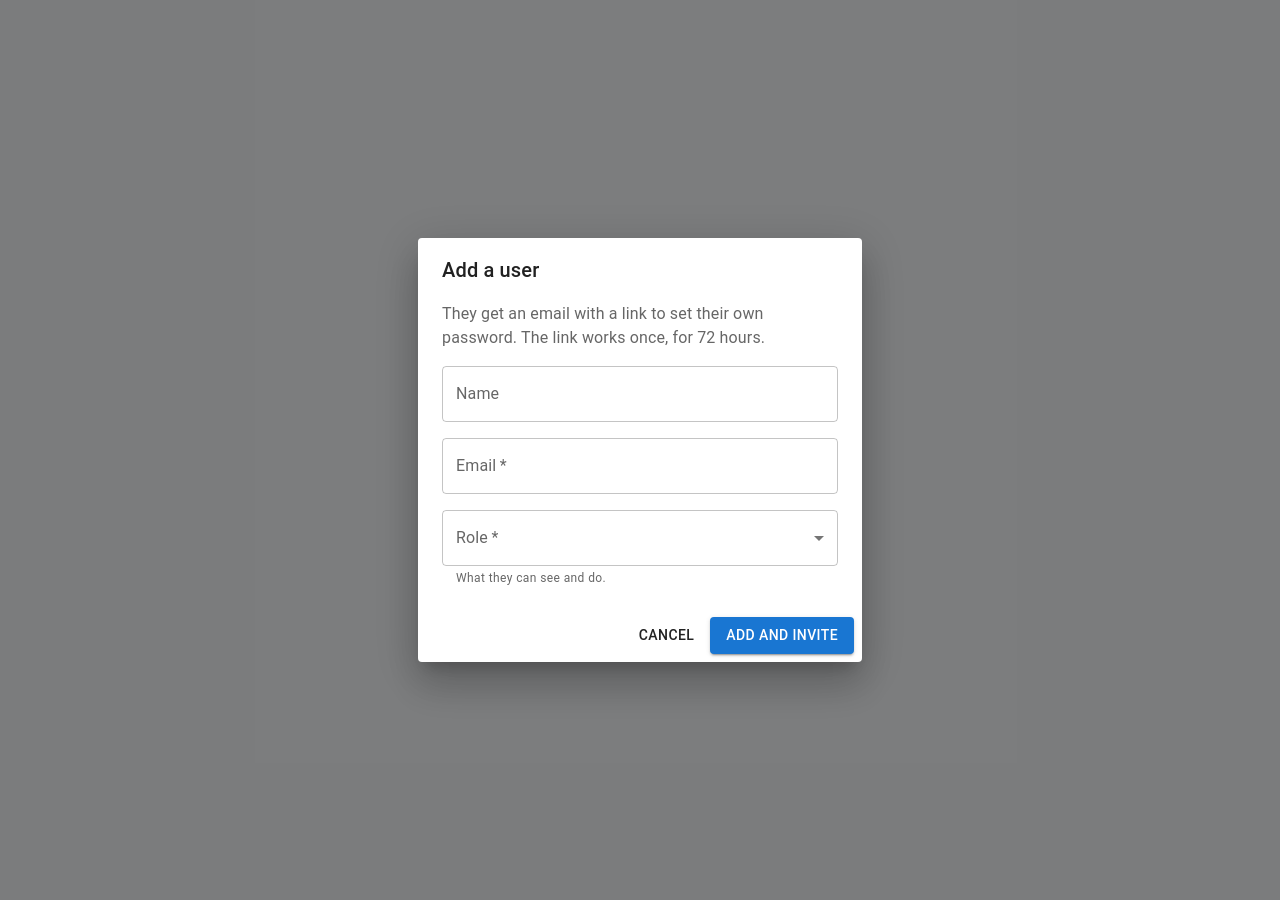
Test: AddUserDialog › shows why the server refused
Step 1. Type "asha@acme.in" into the field labelled "Email *" → (640, 466), box top-left (442, 438), bottom-right (838, 494)
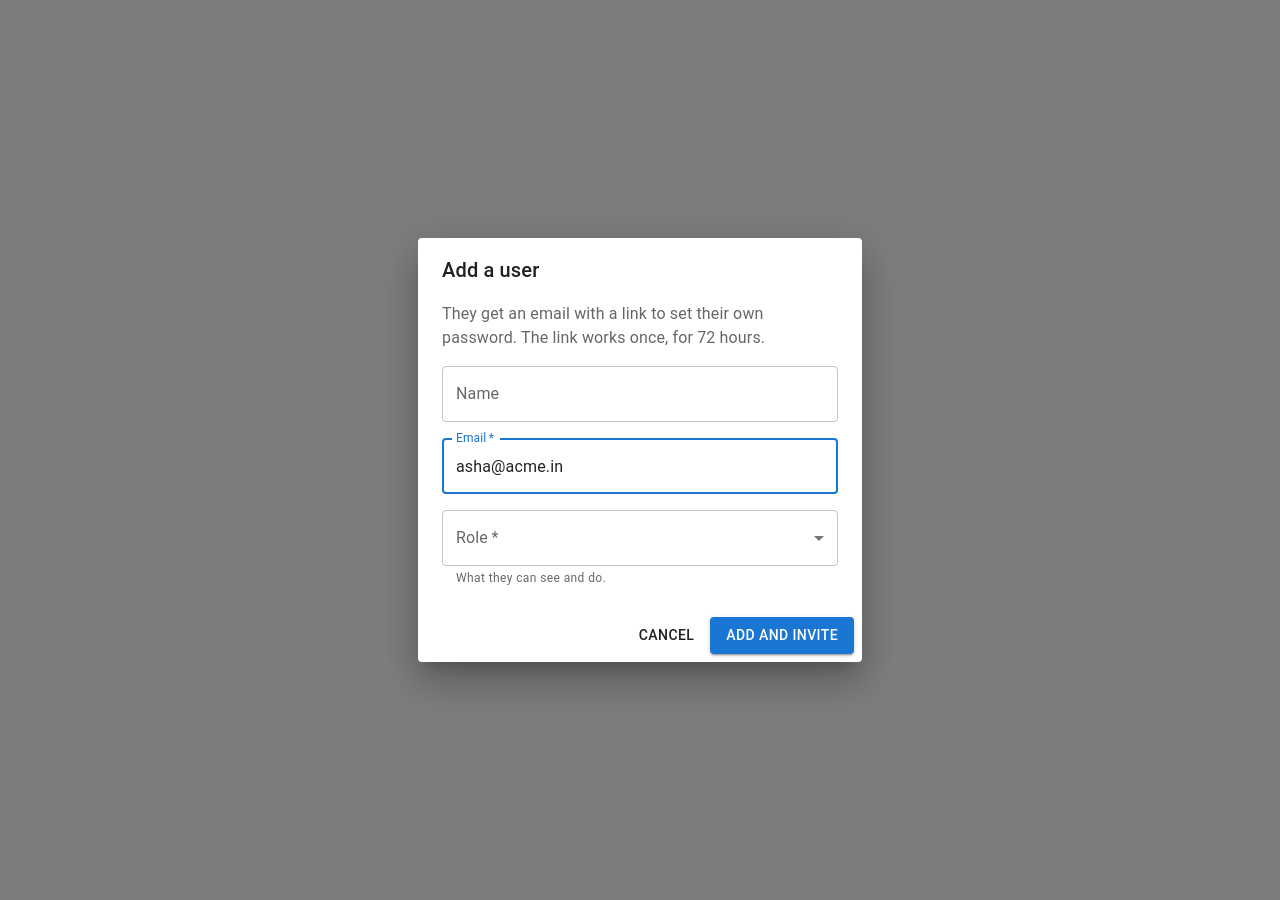
Step 2. Press the mouse on the dropdown → (640, 538), box top-left (442, 510), bottom-right (838, 566)
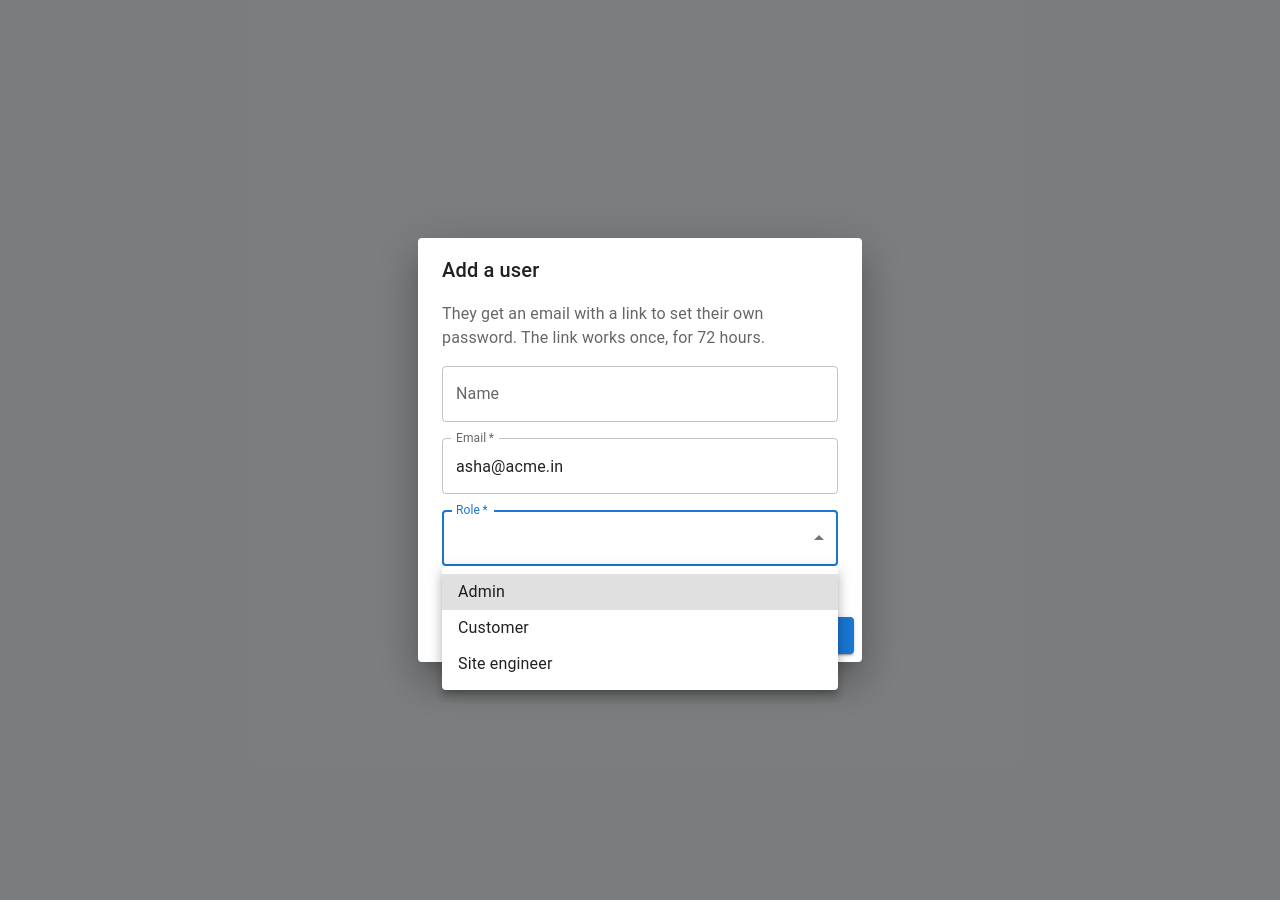
Step 3. Click the option "Admin" → (481, 592), box top-left (442, 574), bottom-right (838, 610)
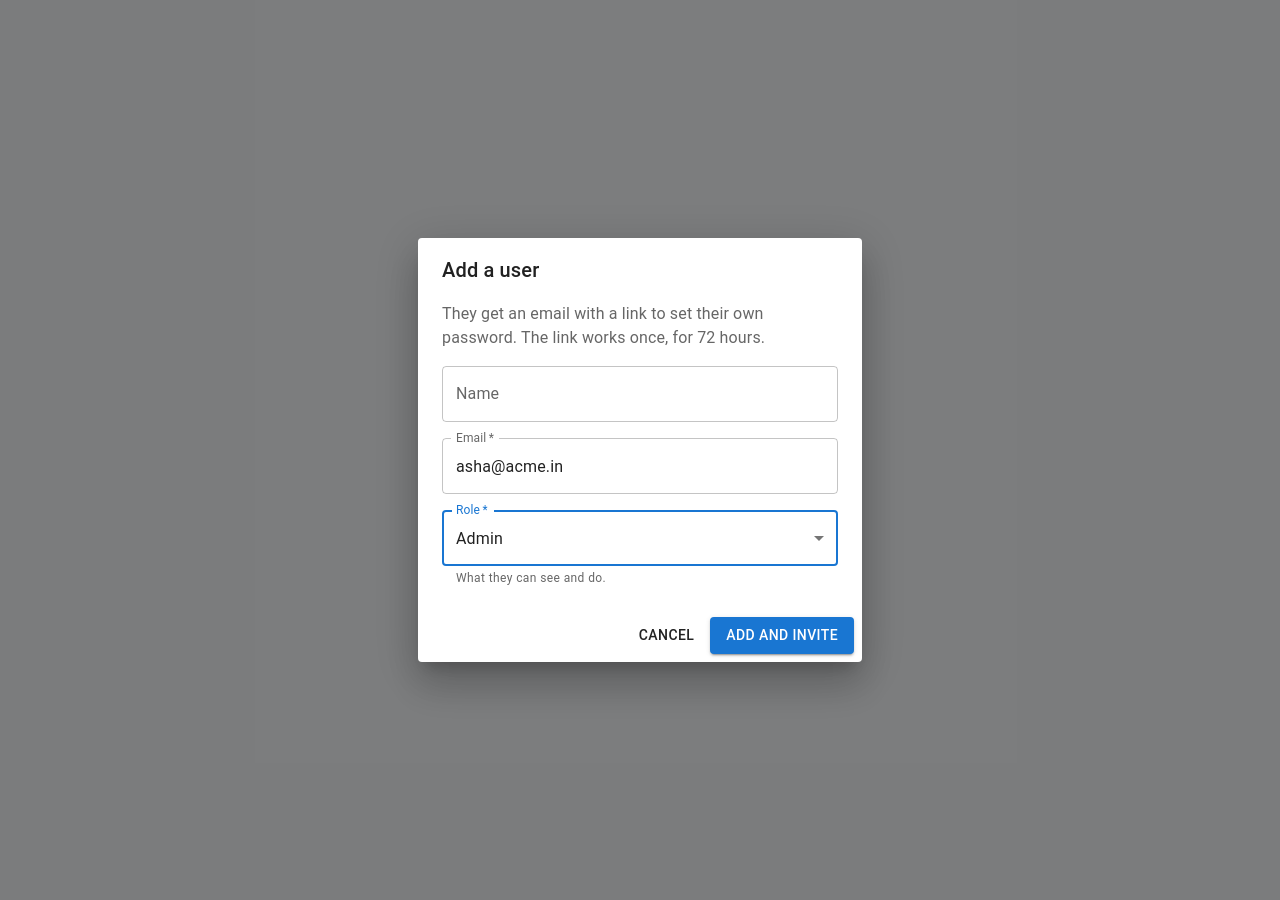
Step 4. Click the button "Add and invite" → (782, 635), box top-left (710, 617), bottom-right (854, 654)
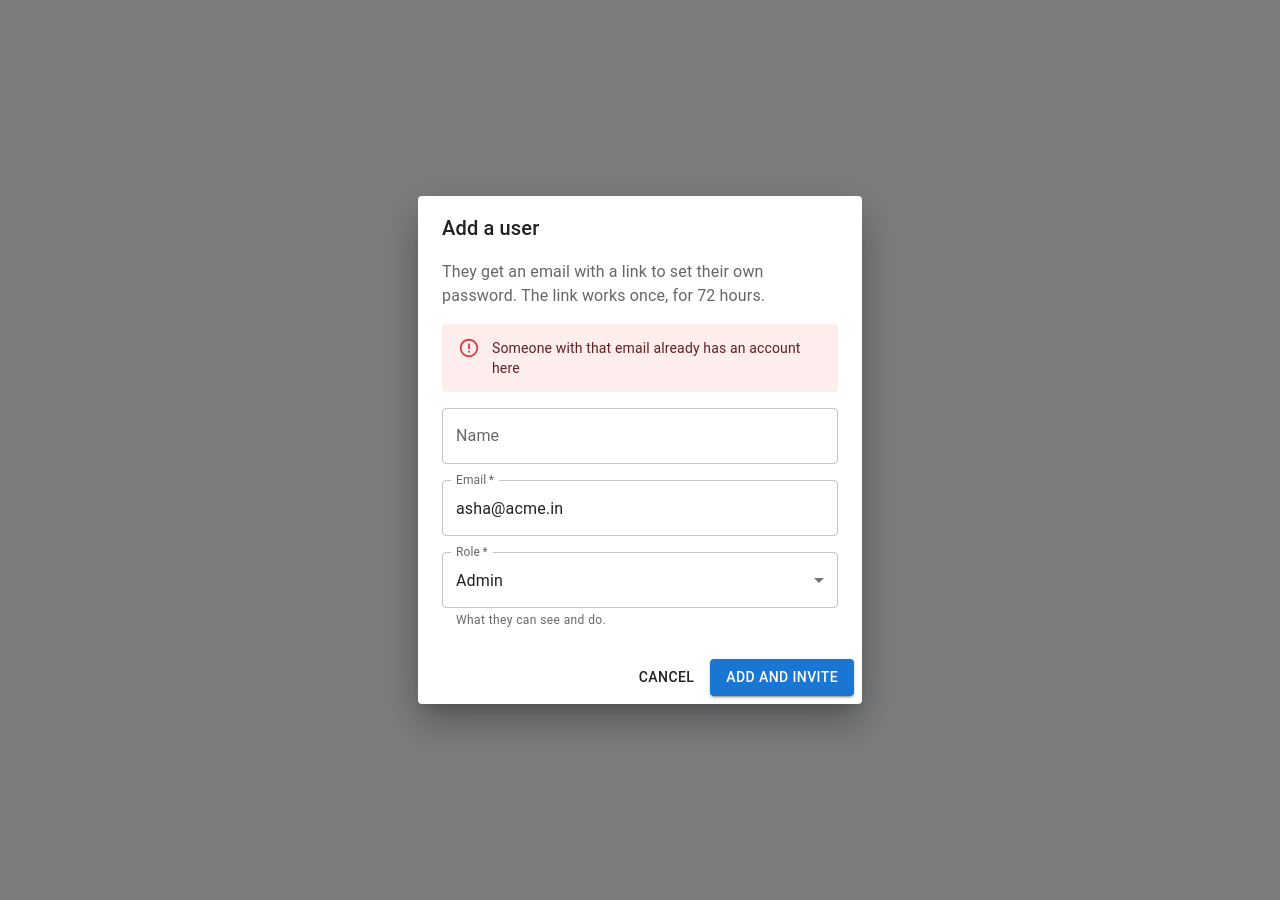
Expected: the text "Someone with that email already has an account here" is shown, top-left (492, 330), bottom-right (822, 386)
